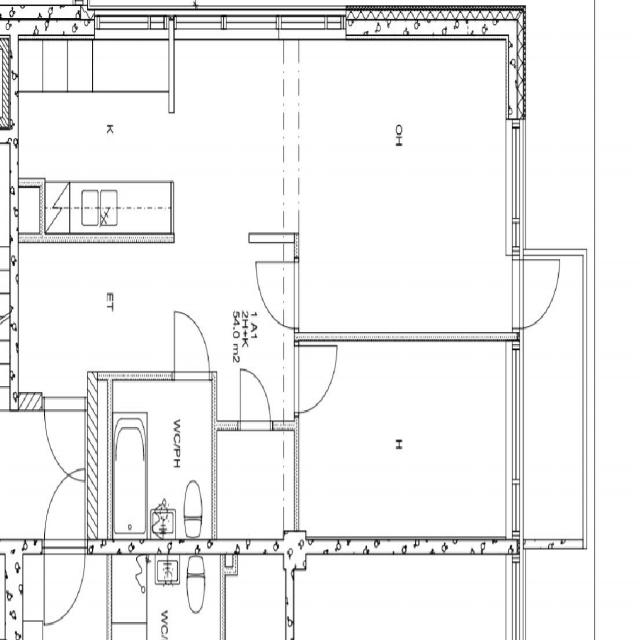door: (512, 259, 563, 329), (44, 398, 85, 481), (256, 262, 299, 328), (294, 346, 336, 412), (174, 311, 209, 380), (240, 369, 270, 430)
